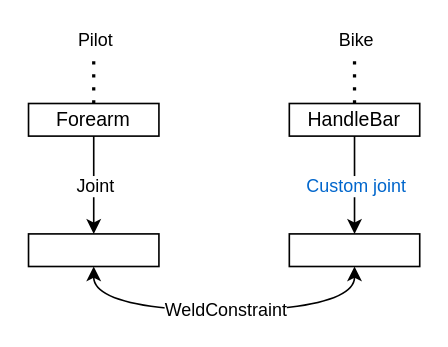
The diagram is 448 pixels wide and 347 high, and some of its shapes have lost their labels. The centre of each missing label's shape, as x and y in pixels:
Hand_1: point 93,249
Hand_2: point 354,249
